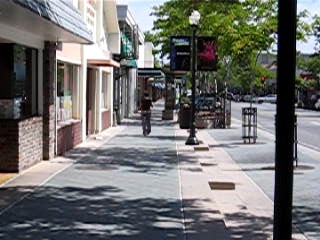person: (140, 91, 155, 138), (139, 91, 154, 138), (141, 91, 156, 138), (140, 90, 155, 137), (140, 92, 155, 139)
target_negative: (41, 114, 166, 207), (26, 200, 168, 234), (221, 225, 243, 238), (315, 51, 318, 126), (9, 159, 18, 168)
